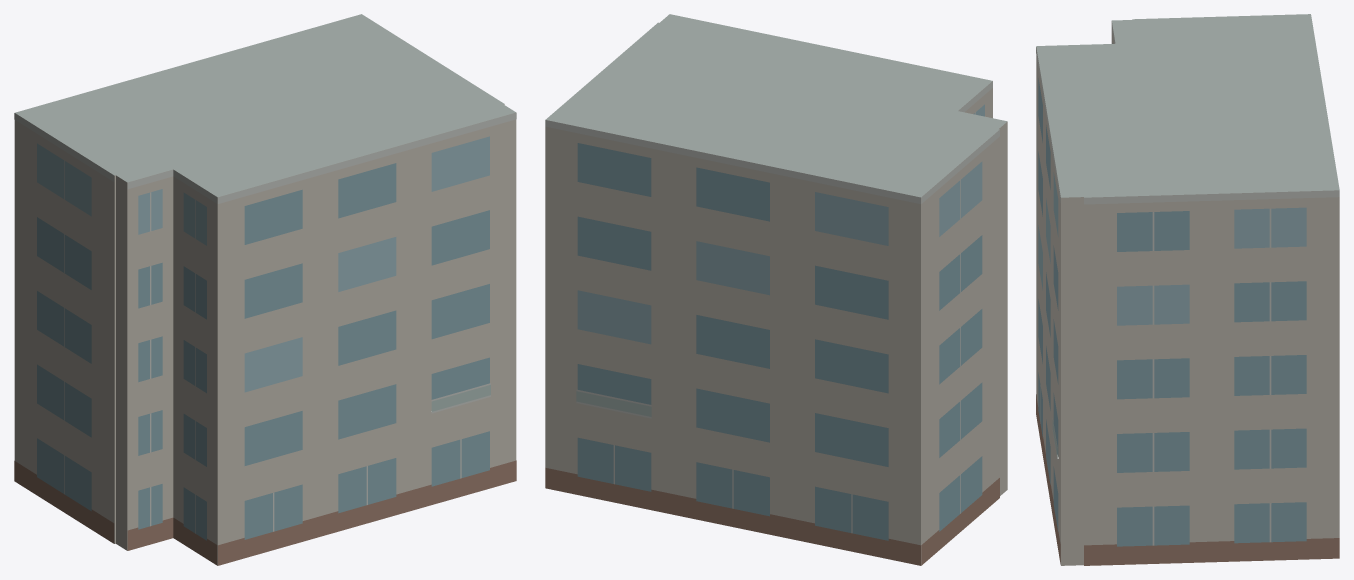
File: survey-upis-33020228.glb
3 views of the same model, side by side, from view 1: azimuth 30°, elevation 25°; view 2: azimuth 150°, elevation 25°; view 3: azimuth 270°, elevation 25° (orthographic).
Visible parts, largest first — view 1: survey-upis-33020228.tmp; view 2: survey-upis-33020228.tmp; view 3: survey-upis-33020228.tmp.
Part boxes in pixels (box(x1,y1,x2,y2)): survey-upis-33020228.tmp: box(14, 14, 516, 565); survey-upis-33020228.tmp: box(545, 14, 1007, 565); survey-upis-33020228.tmp: box(1036, 14, 1339, 565).
Bounding box in the file's own units: 14.13 × 13.2 × 9.87.
